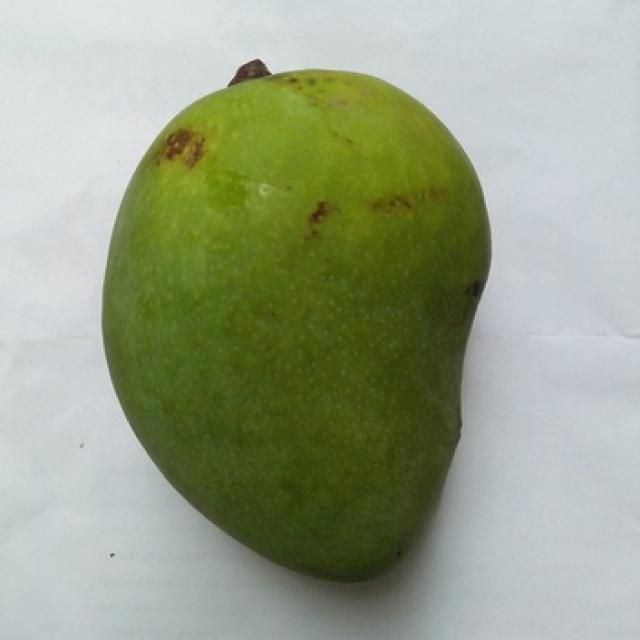Mango: (102, 70, 490, 580)
